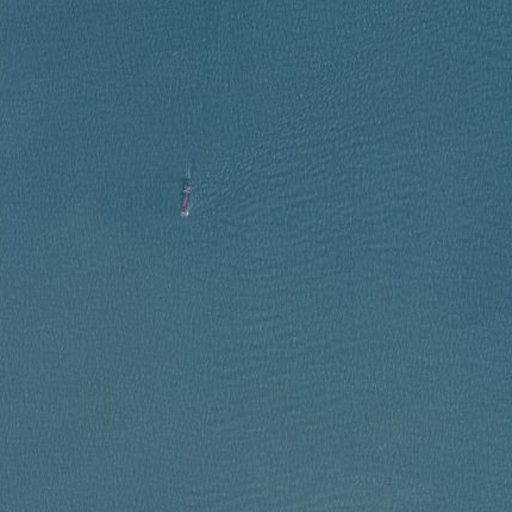ship: (177, 173, 195, 219)
